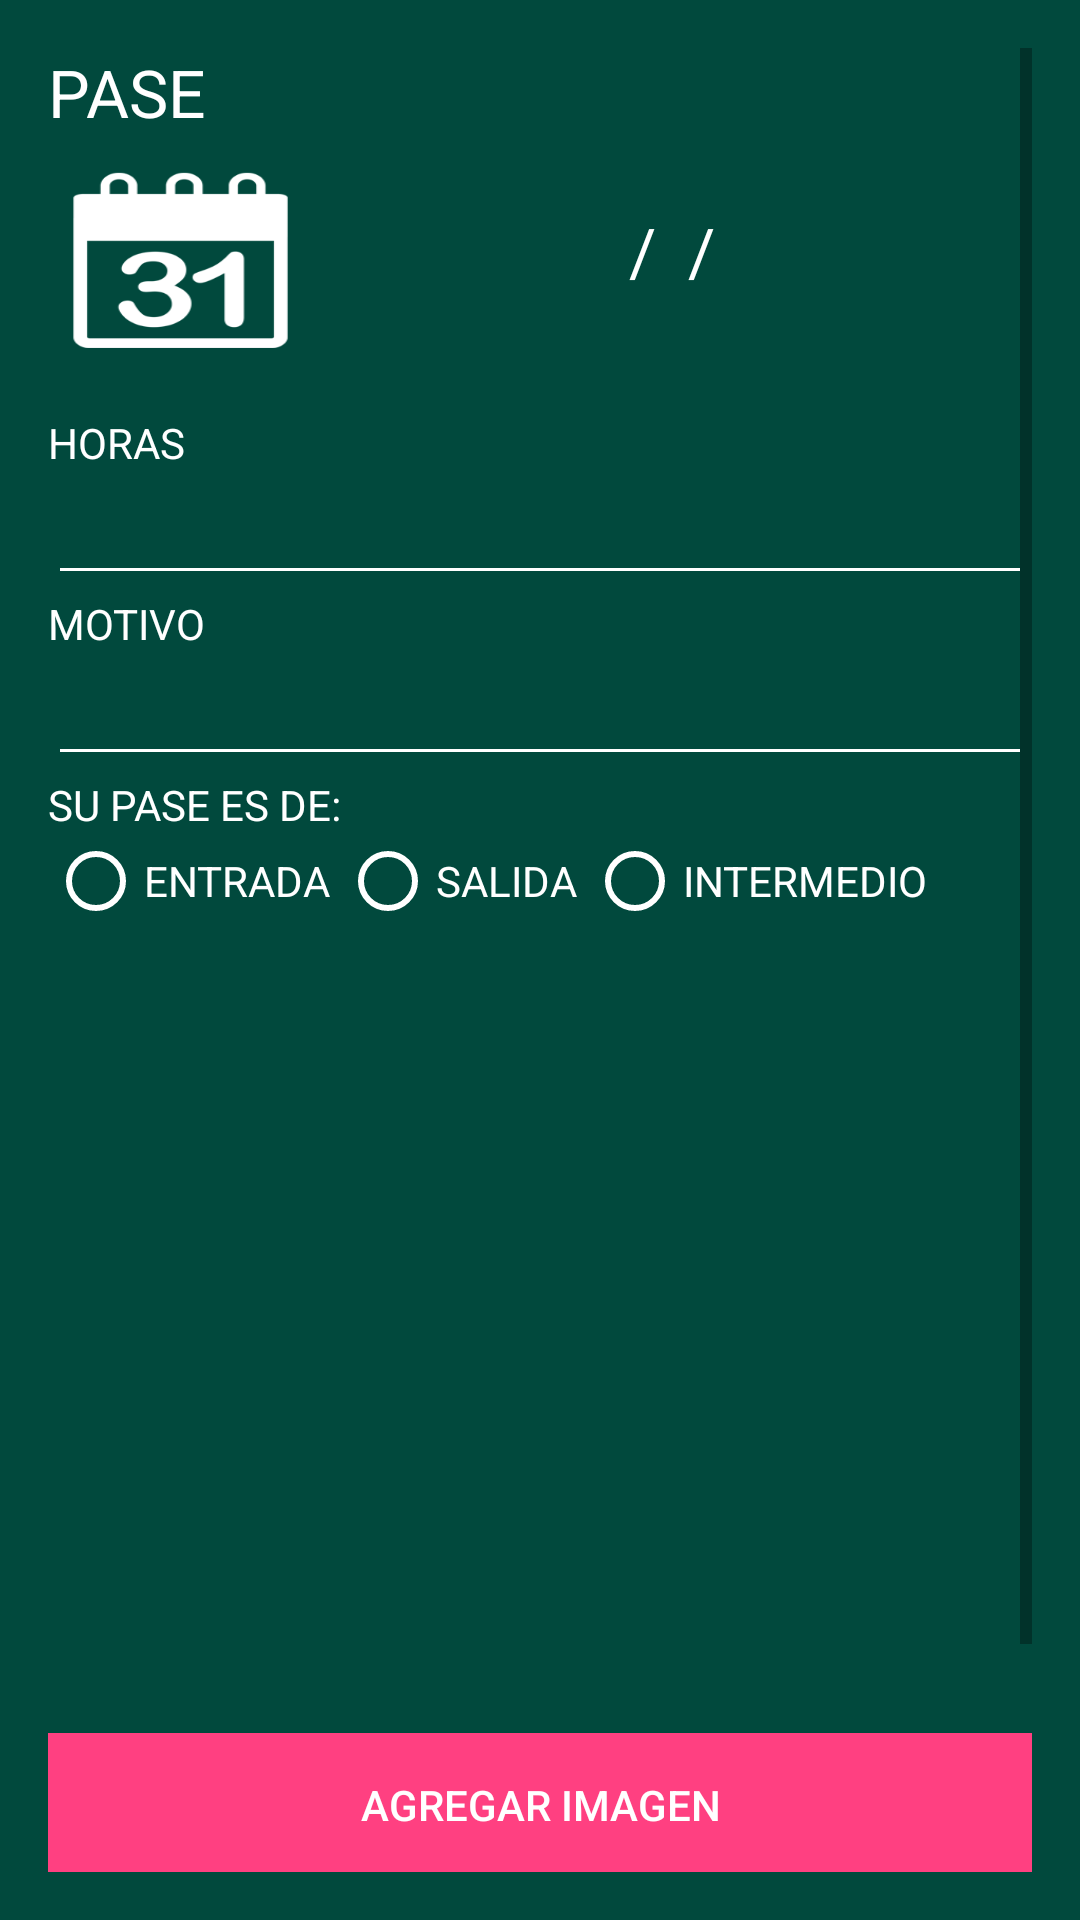

Icons on this 1080px x 1920px Android screen, each with the point to tap as (x=x, y=y):
calendarioicon: (x=180, y=260)
